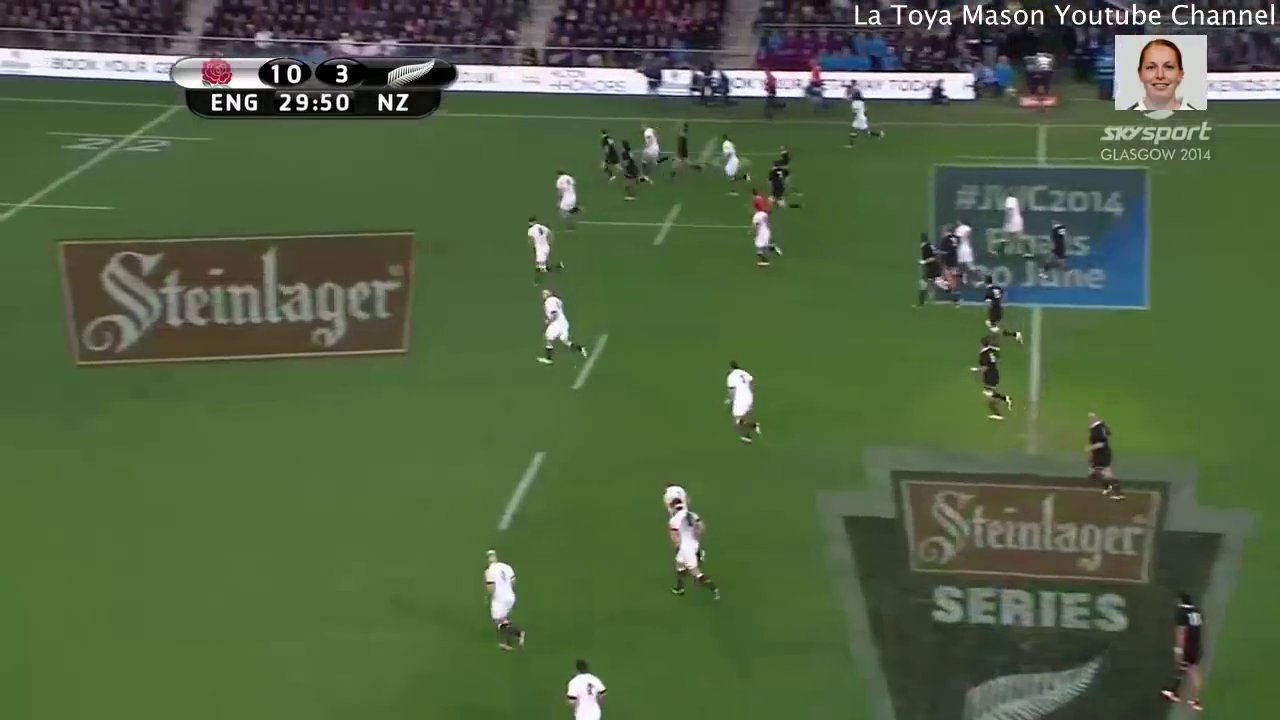10_metre: (565, 202, 759, 252)
player: (1150, 585, 1223, 717), (477, 547, 533, 657), (1077, 406, 1133, 511), (663, 500, 719, 604), (965, 337, 1021, 430), (909, 228, 967, 314), (535, 281, 595, 362), (721, 353, 767, 445), (521, 212, 568, 290), (973, 276, 1025, 344), (1034, 212, 1081, 287), (560, 656, 610, 720), (841, 85, 886, 151), (992, 188, 1033, 257), (618, 135, 657, 203), (931, 222, 963, 302), (761, 151, 802, 213), (716, 129, 752, 194), (550, 168, 585, 234), (668, 116, 703, 179), (749, 204, 782, 268), (634, 119, 673, 169), (952, 221, 978, 280), (594, 123, 620, 182), (745, 191, 770, 214)
